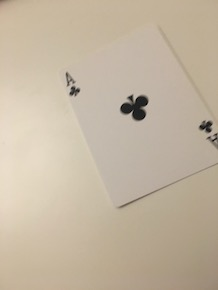AceOfClubs: (57, 21, 218, 209)
